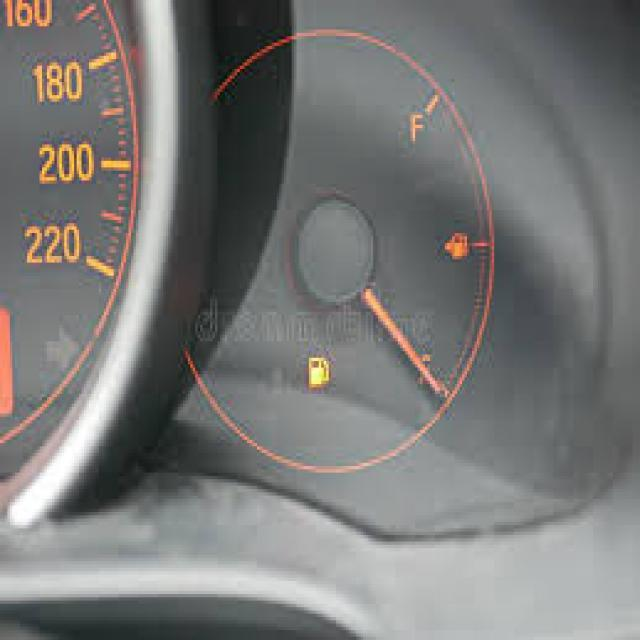LowFuel: (304, 349, 336, 392)
